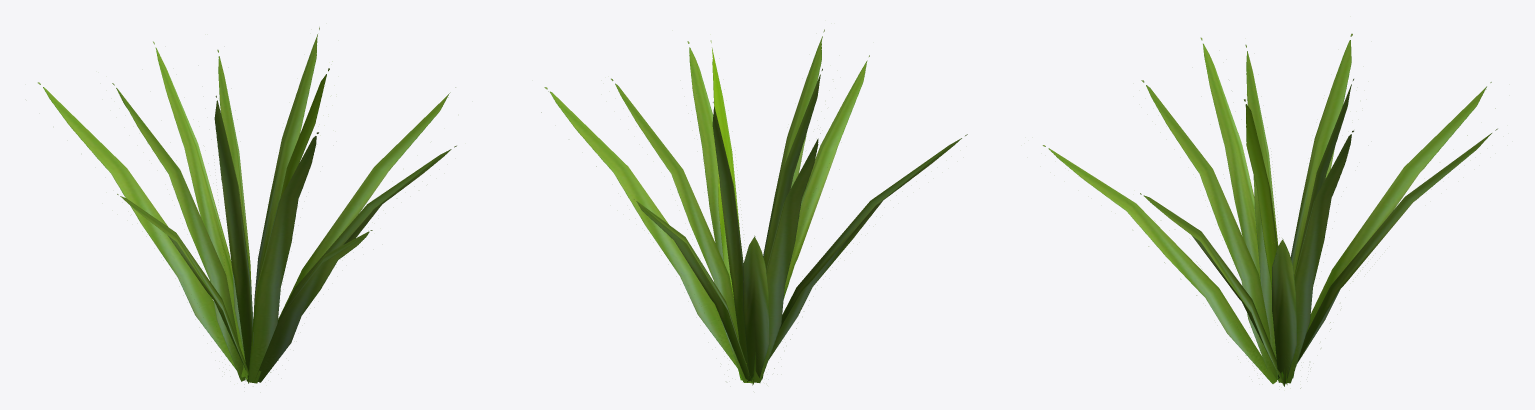
Rendered from plant18.FBX.
The picture shows the model from 3 angles, left to right: view 1: azimuth 30°, elevation 25°; view 2: azimuth 150°, elevation 25°; view 3: azimuth 270°, elevation 25°; orthographic projection.
Visible parts, largest first — view 1: plant18; view 2: plant18; view 3: plant18.
Boxes of the visible parts, box(x1,y1,x2,y2) form: plant18: box(37, 27, 456, 383); plant18: box(541, 29, 967, 385); plant18: box(1042, 33, 1497, 388).
Size of the model in its own units: 3.18 by 2.31 by 3.29.
